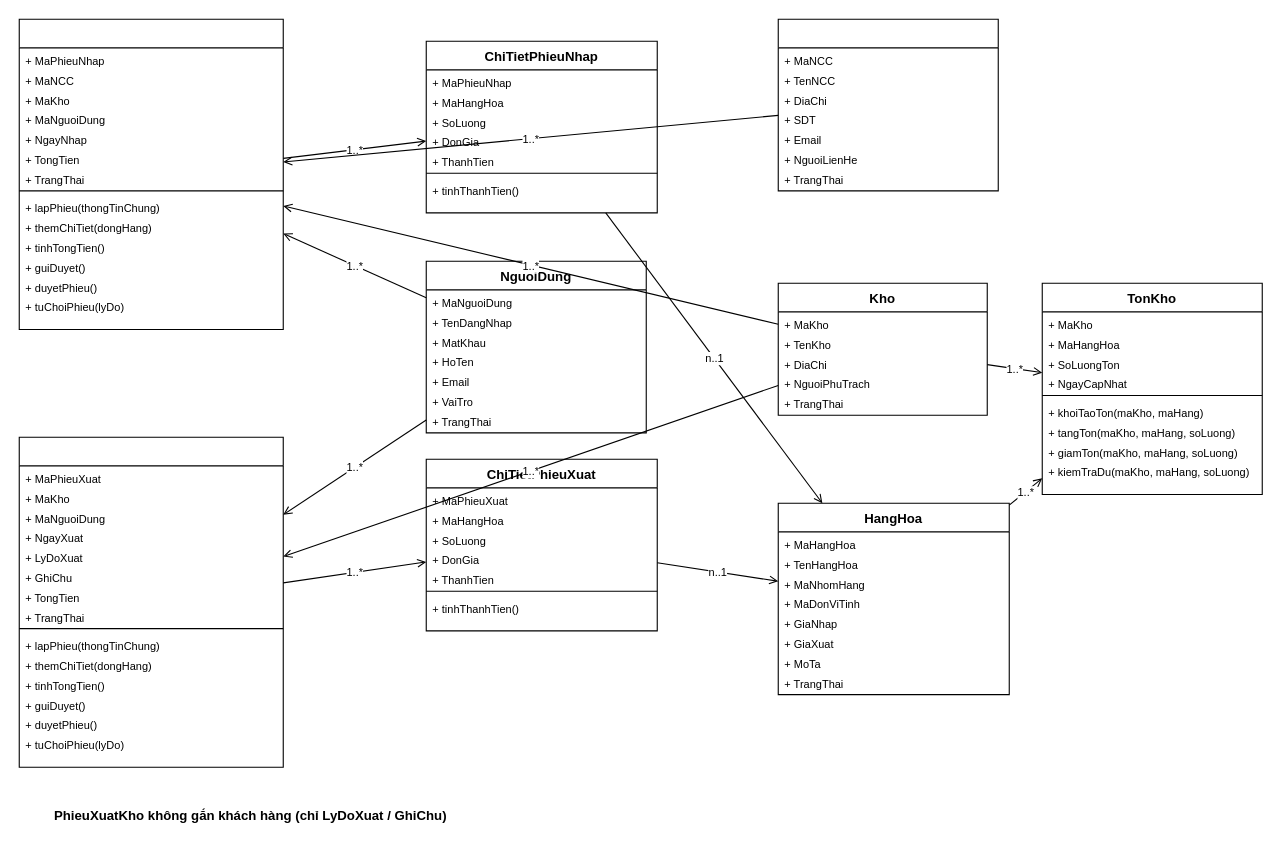
This 1282x853 diagram has some shape labels left out. Each missing label, with the box of its shape:
NhaCungCap: (777, 18, 998, 191)
PhieuNhapKho: (18, 18, 283, 329)
PhieuXuatKho: (18, 436, 283, 767)
